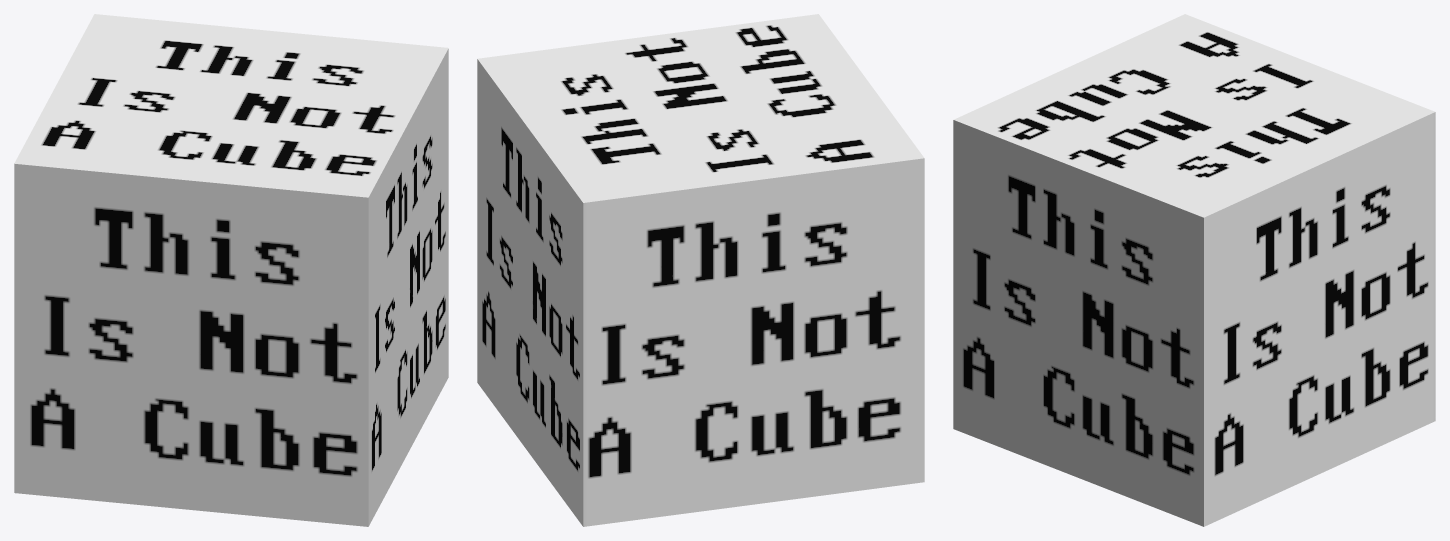
The model's file is Art Cube.fbx.
The picture shows the model from 3 angles, left to right: view 1: azimuth 30°, elevation 25°; view 2: azimuth 150°, elevation 25°; view 3: azimuth 270°, elevation 25°; orthographic projection. The views are drawn at different scales.
Parts seen in each view (by area): view 1: Cube; view 2: Cube; view 3: Cube.
Part boxes in pixels (x1,y1,x2,y2): Cube: (14, 14, 448, 526); Cube: (477, 14, 924, 526); Cube: (953, 14, 1435, 526).
Bounding box in the file's own units: 283 × 200 × 283.
